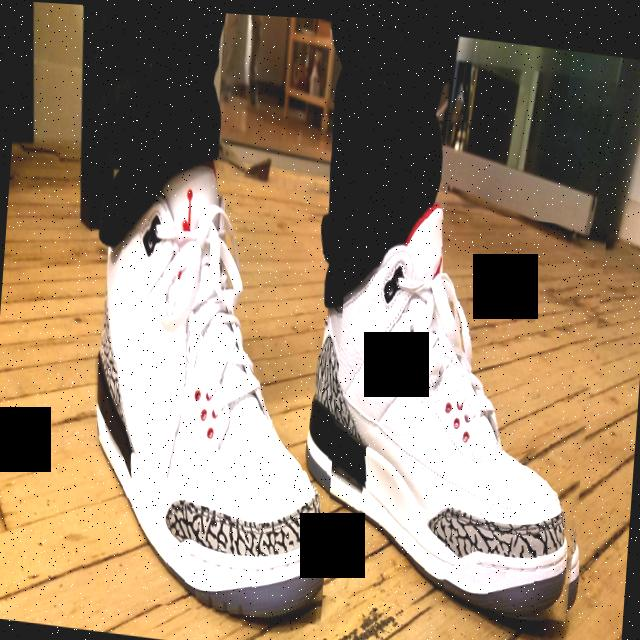shoe: (298, 188, 608, 623), (77, 153, 350, 622)
